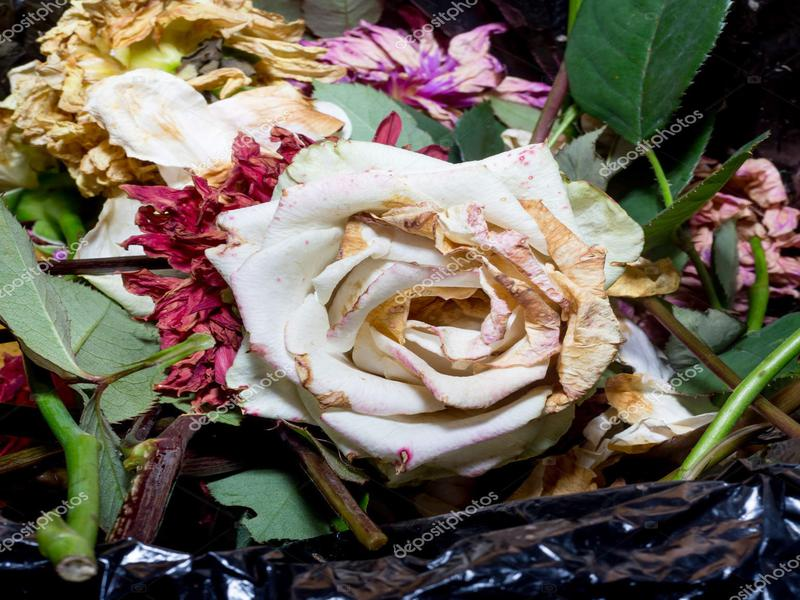flowers: (8, 1, 795, 488)
